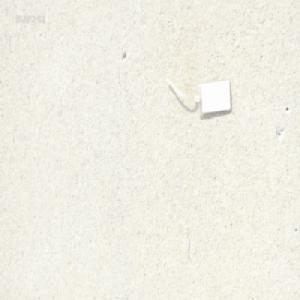LuggageTag: (161, 76, 233, 119)
